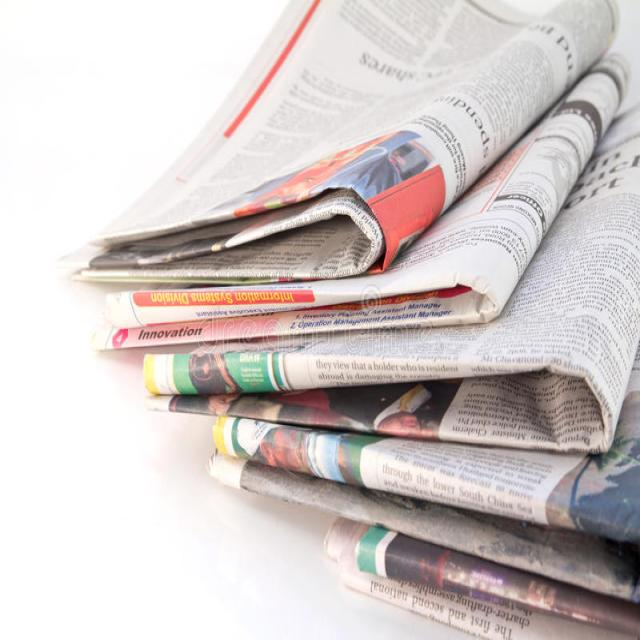newspaper: (152, 264, 640, 640), (83, 0, 640, 326)
